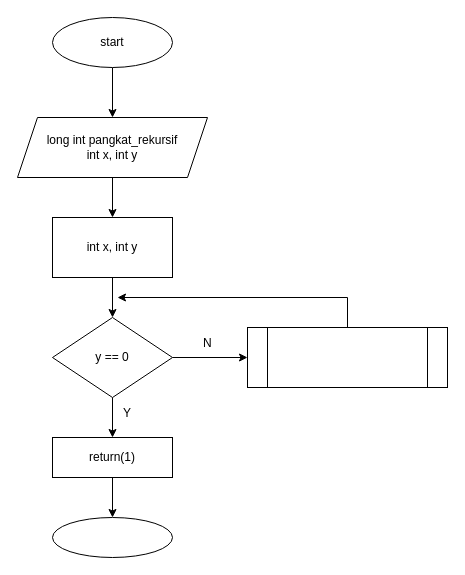
Image size: 465x575. Some labels were removed from this diagram. Each missing label, with the centre of its shape:
end: the point at 112,537
x * pangkatrekursif(x,y-1): the point at 347,357
